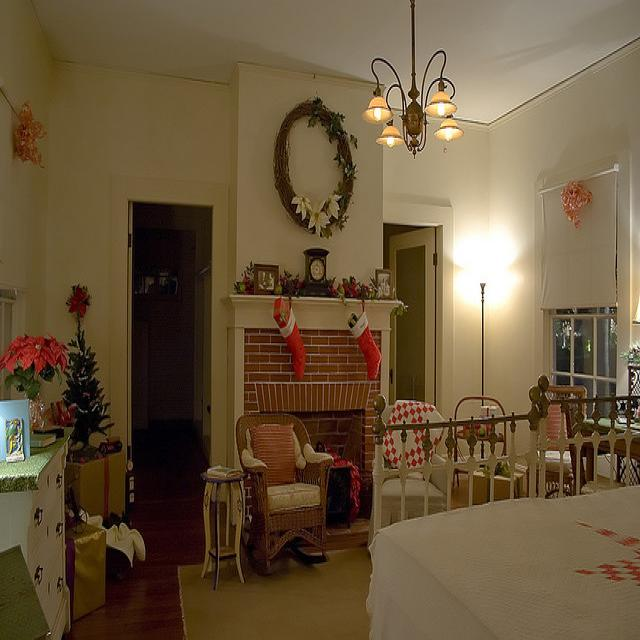chair: (237, 407, 332, 573), (366, 406, 447, 550), (526, 387, 587, 500), (388, 400, 447, 430)
dining table: (364, 485, 640, 632)
